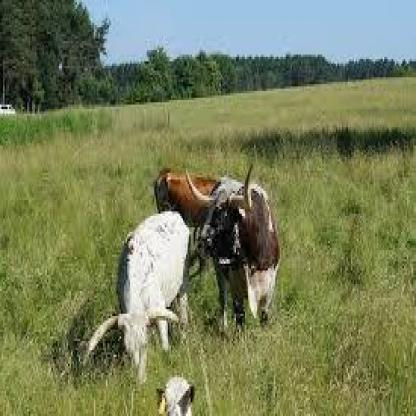cow: (116, 212, 188, 386), (208, 178, 279, 318), (156, 168, 224, 234), (158, 379, 196, 416)
